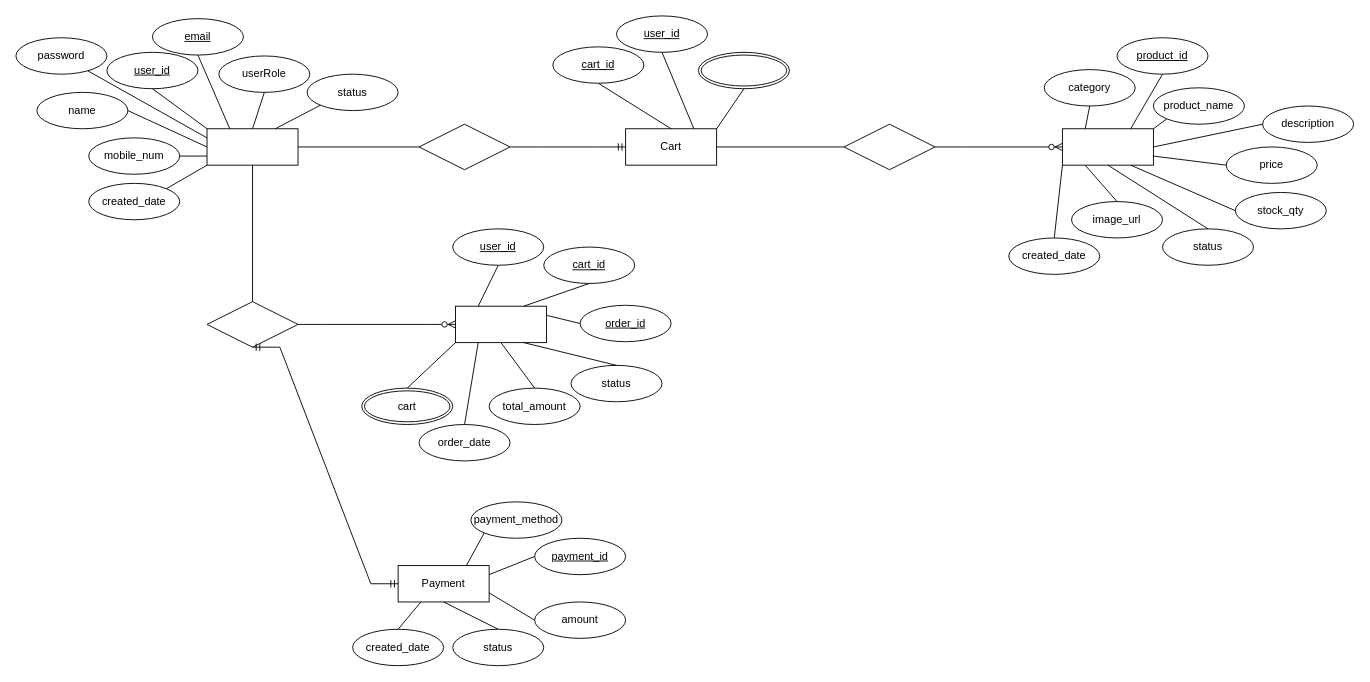
This 1370x682 diagram has some shape labels left out. Here are the shapes that lost their labels. From the top down, the centre of each, then its label:
At point (743, 70): "products".
At point (252, 146): "User".
At point (464, 146): "Has".
At point (889, 146): "Contain".
At point (1107, 146): "Product".
At point (252, 324): "Make".
At point (500, 324): "Order".
